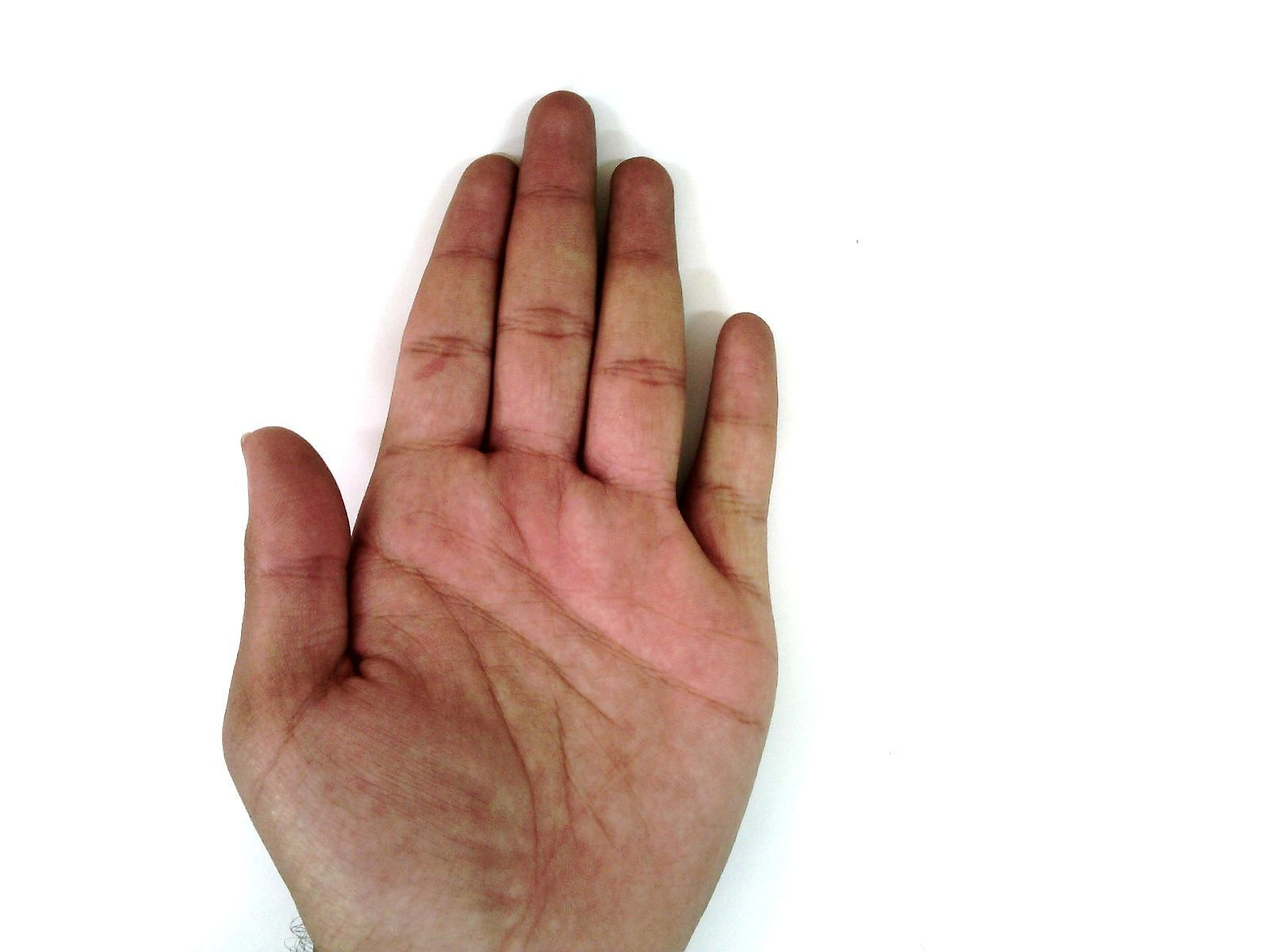open_palm: (220, 90, 785, 951)
